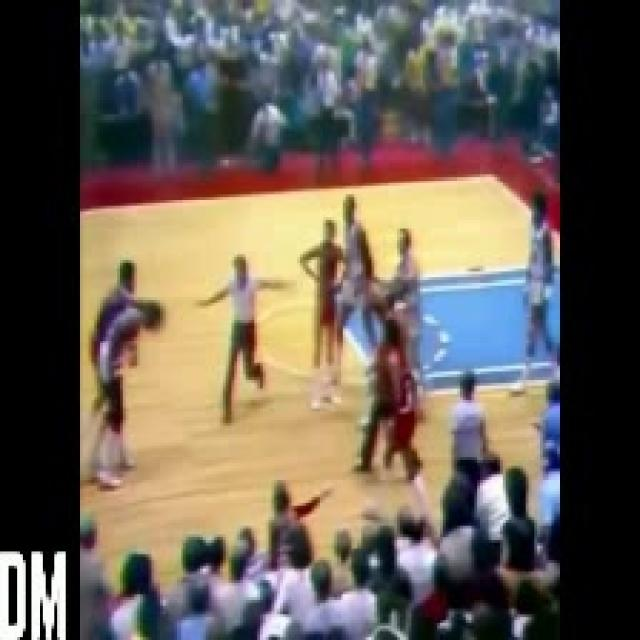non_violence: (87, 252, 168, 486), (193, 251, 293, 421), (366, 319, 424, 484), (298, 222, 346, 410), (516, 191, 558, 387)
